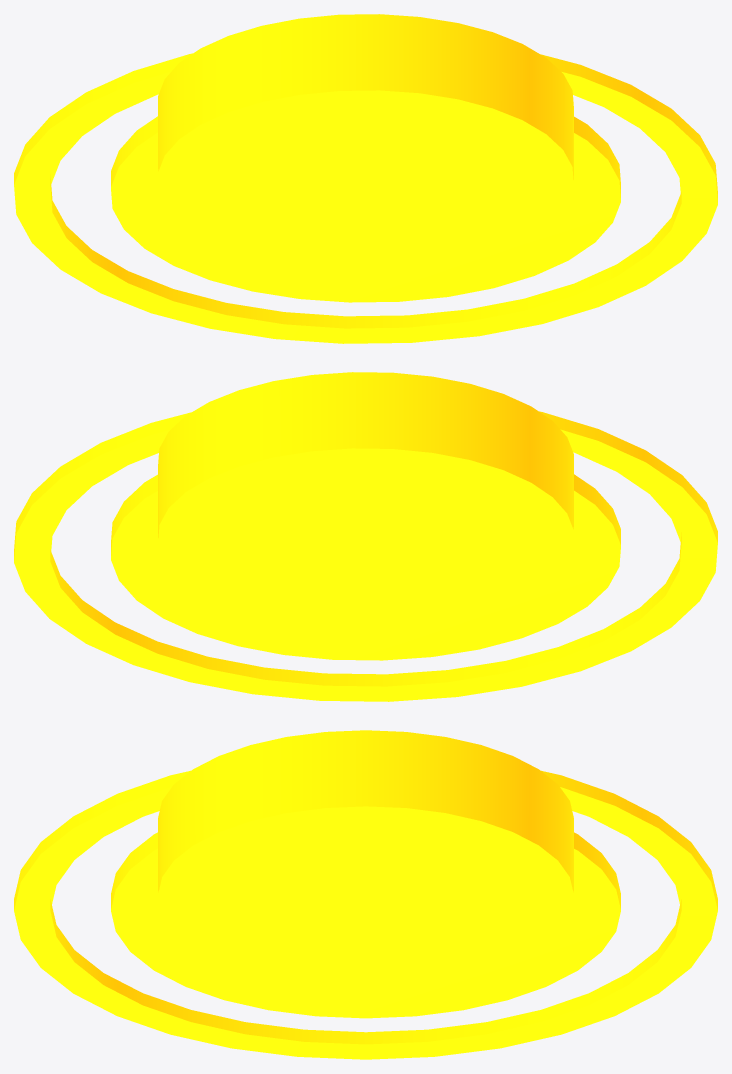
The model's file is centerToon.glb.
3 views of the same model, one above another, from view 1: azimuth 30°, elevation 25°; view 2: azimuth 150°, elevation 25°; view 3: azimuth 270°, elevation 25° (orthographic).
Parts seen in each view (by area): view 1: toon, toon.001; view 2: toon, toon.001; view 3: toon, toon.001.
Part boxes in pixels (bbox=[...]): toon: bbox=[111, 14, 620, 302]; toon.001: bbox=[14, 53, 717, 343]; toon: bbox=[111, 372, 620, 660]; toon.001: bbox=[14, 411, 717, 701]; toon: bbox=[111, 730, 620, 1018]; toon.001: bbox=[14, 770, 717, 1059].
Size of the model in its own units: 9.27 by 1.37 by 9.27.
